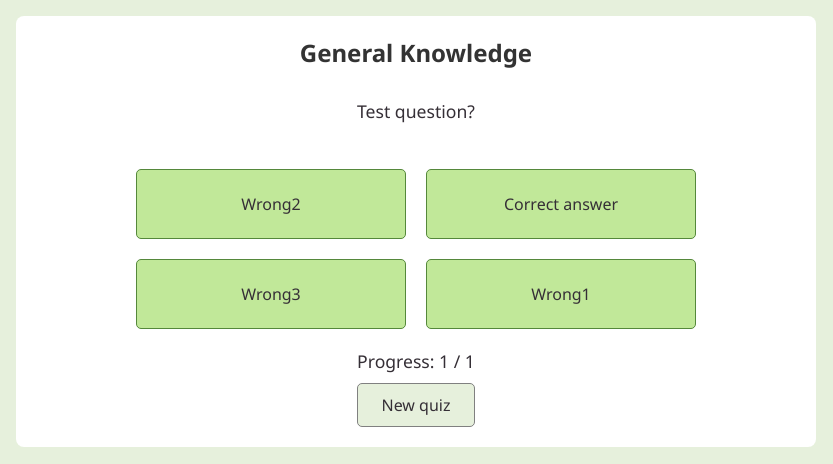
Test: QuizView.vue › displays the correct score after completing the quiz
The image size is (833, 464).
Click the button "Correct answer" at [561, 204], box [426,169,696,239]
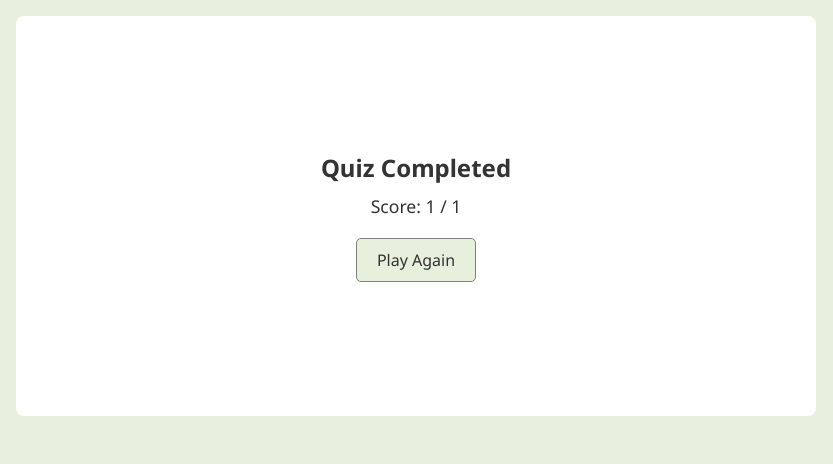
Check: the element showing "Quiz Completed Score: 1 / 1 Play Again" is shown, box [321,150,511,282]
Check: the text "Score: 1" is shown, box [371,194,461,218]
